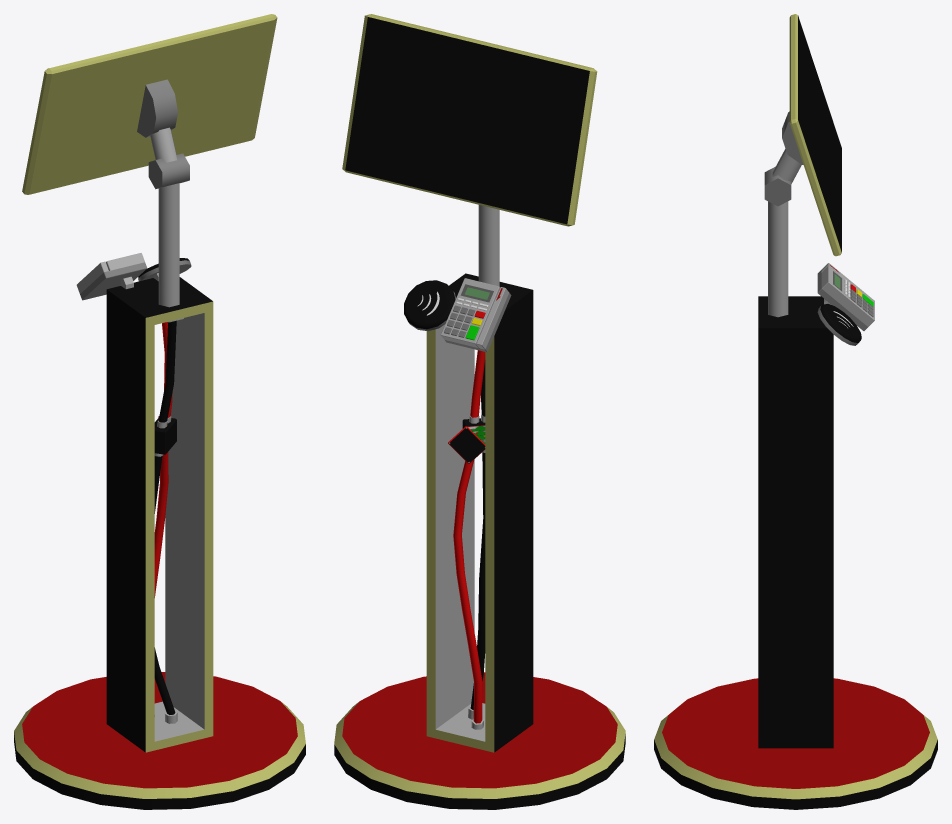
The model's file is WW_paystand_prop.fbx.
The picture shows the model from 3 angles, left to right: view 1: azimuth 30°, elevation 25°; view 2: azimuth 150°, elevation 25°; view 3: azimuth 270°, elevation 25°; orthographic projection. The views are drawn at different scales.
Visible parts, largest first — view 1: paystand, cable_black, pad, cablered, powerbox; view 2: paystand, cablered, pad, nfc_pad, cable_black, powerbox_lid; view 3: paystand, pad, nfc_pad.
Part boxes in pixels (left/top/right/bottom): paystand: left=14, top=14, right=305, bottom=809; cable_black: left=154, top=320, right=177, bottom=723; pad: left=76, top=253, right=147, bottom=300; cablered: left=154, top=322, right=172, bottom=716; powerbox: left=154, top=418, right=176, bottom=454; paystand: left=334, top=14, right=625, bottom=809; cablered: left=453, top=350, right=485, bottom=729; pad: left=441, top=278, right=511, bottom=352; nfc_pad: left=404, top=280, right=455, bottom=331; cable_black: left=468, top=360, right=485, bottom=719; powerbox_lid: left=448, top=426, right=485, bottom=463; paystand: left=654, top=14, right=937, bottom=809; pad: left=817, top=263, right=874, bottom=330; nfc_pad: left=817, top=304, right=861, bottom=345.
Bounding box in the file's own units: 86.82 × 231 × 86.82.
